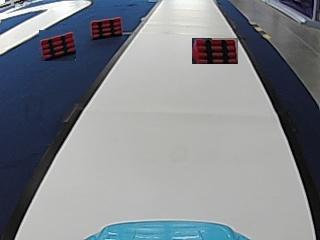bomb: (90, 16, 123, 38)
